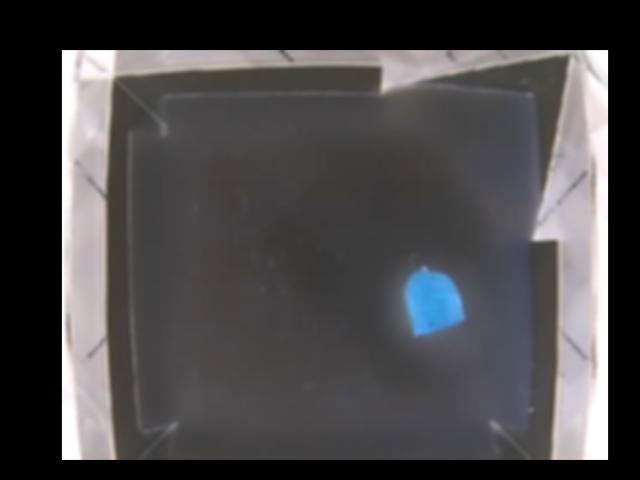Carrot: (404, 267, 463, 337)
